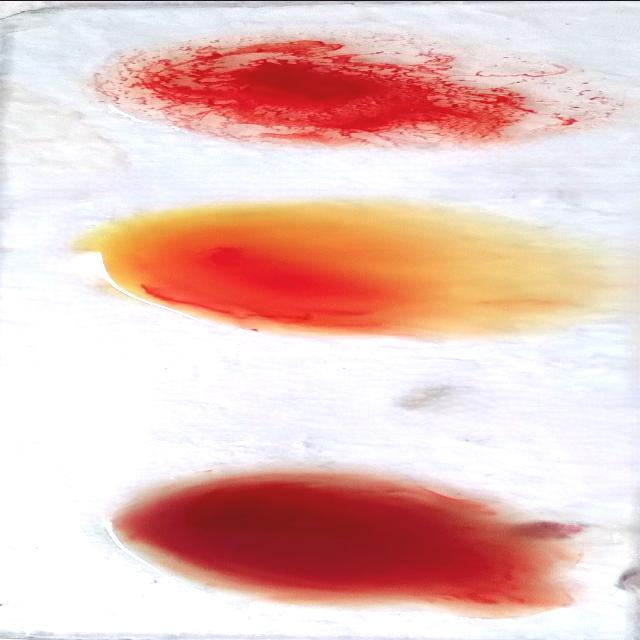D: (88, 36, 620, 147)
